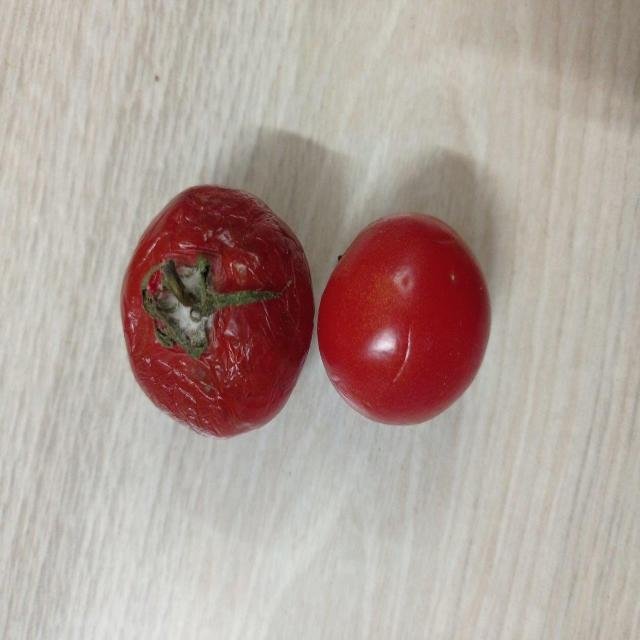Ripe: (318, 212, 492, 428)
Rotten: (119, 183, 319, 438)
